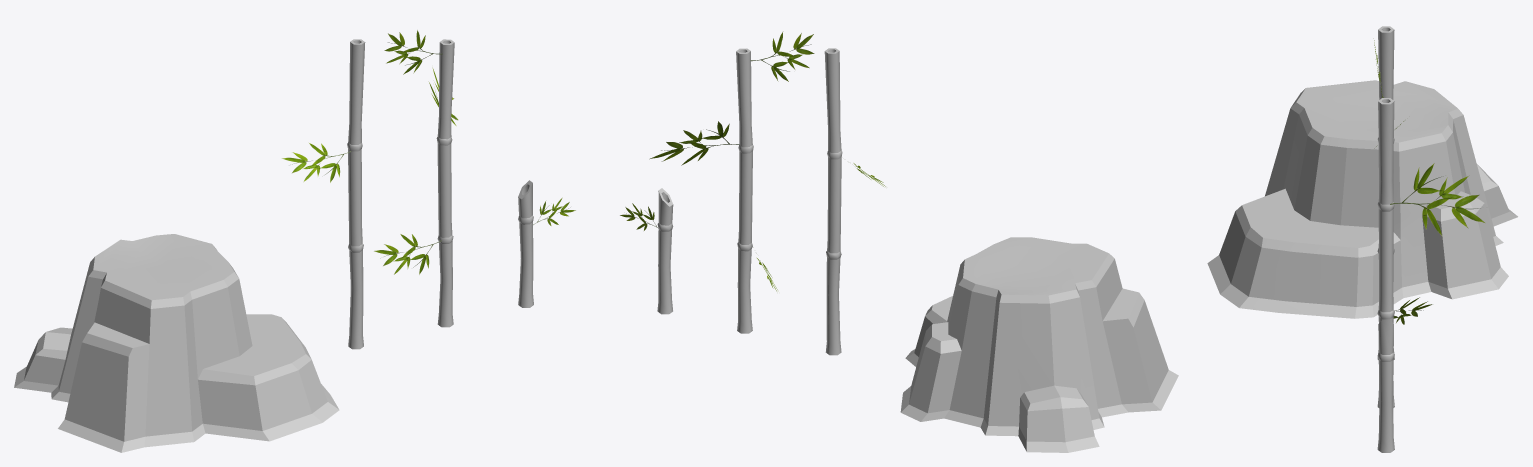
The model's file is RockAndBamboo.fbx.
3 renders of one model, left to right at view 1: azimuth 30°, elevation 25°; view 2: azimuth 150°, elevation 25°; view 3: azimuth 270°, elevation 25°, orthographic. The views are drawn at different scales.
Visible parts, largest first — view 1: Rock, Bamboo1, Bamboo2, Bamboo3, leaves, leaves_006, leaves_005; view 2: Rock, Bamboo1, Bamboo2, Bamboo3, leaves_003, leaves_005; view 3: Rock, Bamboo2, Bamboo3, leaves_003, Bamboo1.
Boxes of the visible parts, left/top/right/bottom form: Rock: left=14, top=234, right=339, bottom=452; Bamboo1: left=347, top=39, right=365, bottom=349; Bamboo2: left=436, top=39, right=454, bottom=327; Bamboo3: left=518, top=180, right=533, bottom=307; leaves: left=281, top=142, right=350, bottom=182; leaves_006: left=374, top=234, right=441, bottom=274; leaves_005: left=384, top=30, right=442, bottom=74; Rock: left=900, top=237, right=1178, bottom=452; Bamboo1: left=824, top=48, right=842, bottom=355; Bamboo2: left=736, top=48, right=753, bottom=333; Bamboo3: left=657, top=188, right=673, bottom=314; leaves_003: left=649, top=121, right=739, bottom=165; leaves_005: left=750, top=31, right=814, bottom=81; Rock: left=1207, top=80, right=1517, bottom=318; Bamboo2: left=1377, top=98, right=1394, bottom=407; Bamboo3: left=1377, top=319, right=1394, bottom=452; leaves_003: left=1390, top=163, right=1485, bottom=236; Bamboo1: left=1377, top=26, right=1394, bottom=359.
Bounding box in the file's own units: 9.05 × 5.28 × 4.15.
